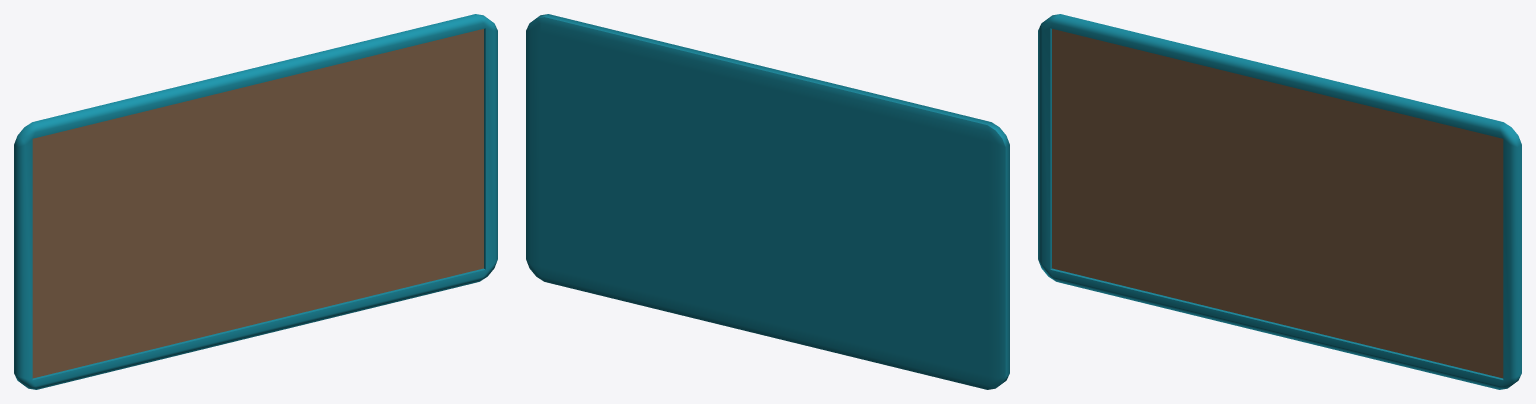
The model's file is BrownBoardGeo.fbx.
3 views of the same model, side by side, from view 1: azimuth 30°, elevation 25°; view 2: azimuth 150°, elevation 25°; view 3: azimuth 330°, elevation 25° (orthographic).
Visible parts, largest first — view 1: BrownBoardGeo; view 2: BrownBoardGeo; view 3: BrownBoardGeo.
Part boxes in pixels (x1,y1,x2,y2): BrownBoardGeo: (14, 14, 497, 389); BrownBoardGeo: (526, 14, 1009, 389); BrownBoardGeo: (1038, 14, 1521, 389).
Bounding box in the file's own units: 507 × 267 × 12.42.
